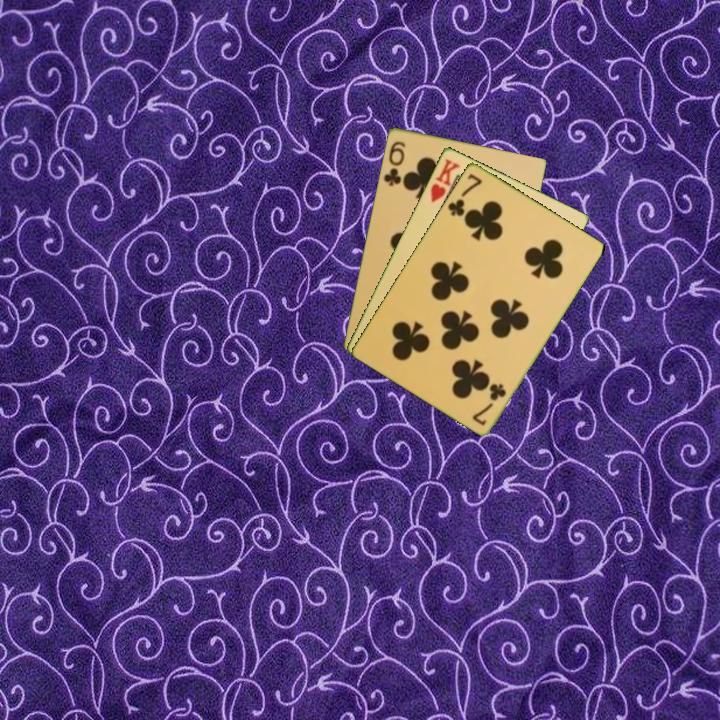6c: (380, 137, 408, 189)
7c: (444, 170, 485, 219), (468, 379, 509, 428)
Kh: (427, 155, 462, 211)
